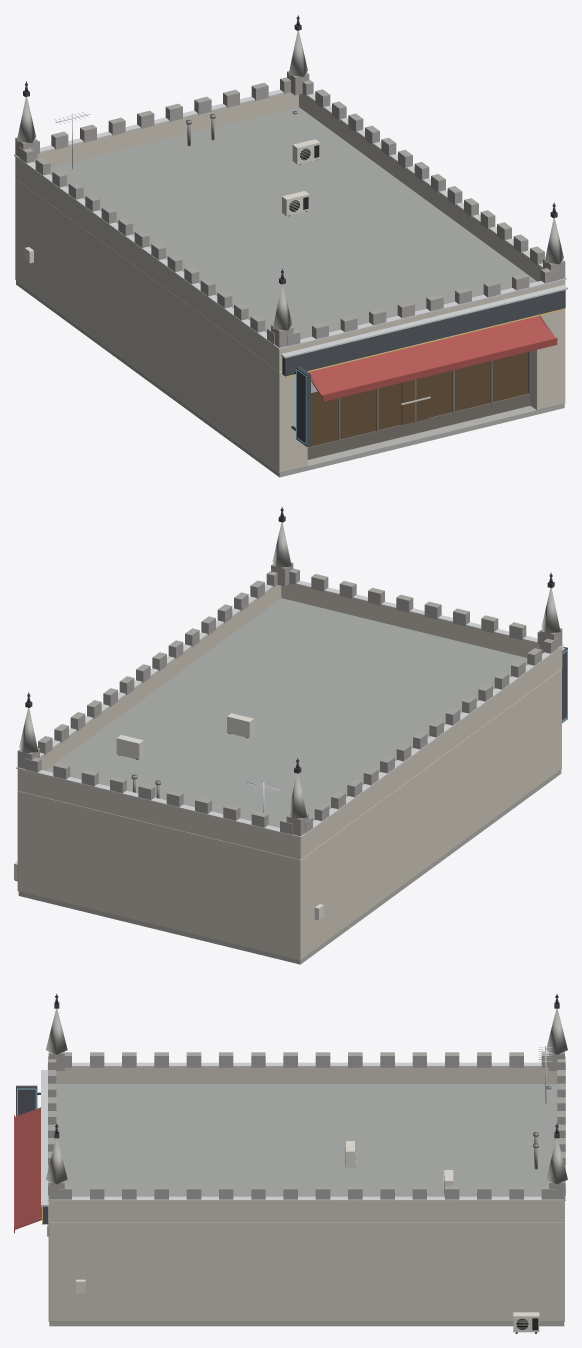
File: blk_repairshop.glb
3 renders of one model, top to bottom at view 1: azimuth 30°, elevation 25°; view 2: azimuth 150°, elevation 25°; view 3: azimuth 270°, elevation 25°, orthographic. The views are drawn at different scales.
Parts seen in each view (by area): view 1: blk_repairshop; view 2: blk_repairshop; view 3: blk_repairshop.
Boxes of the visible parts, x1,y1,x2,y2 form: blk_repairshop: (14, 15, 567, 477); blk_repairshop: (14, 506, 567, 964); blk_repairshop: (14, 993, 567, 1333).
Size of the model in its own units: 10.76 by 6.85 by 17.16.
